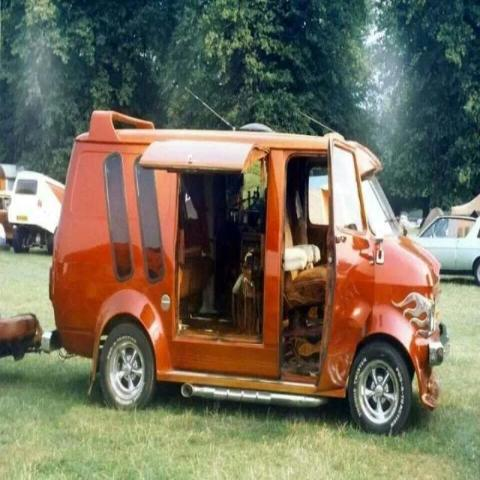van: (43, 93, 445, 441)
